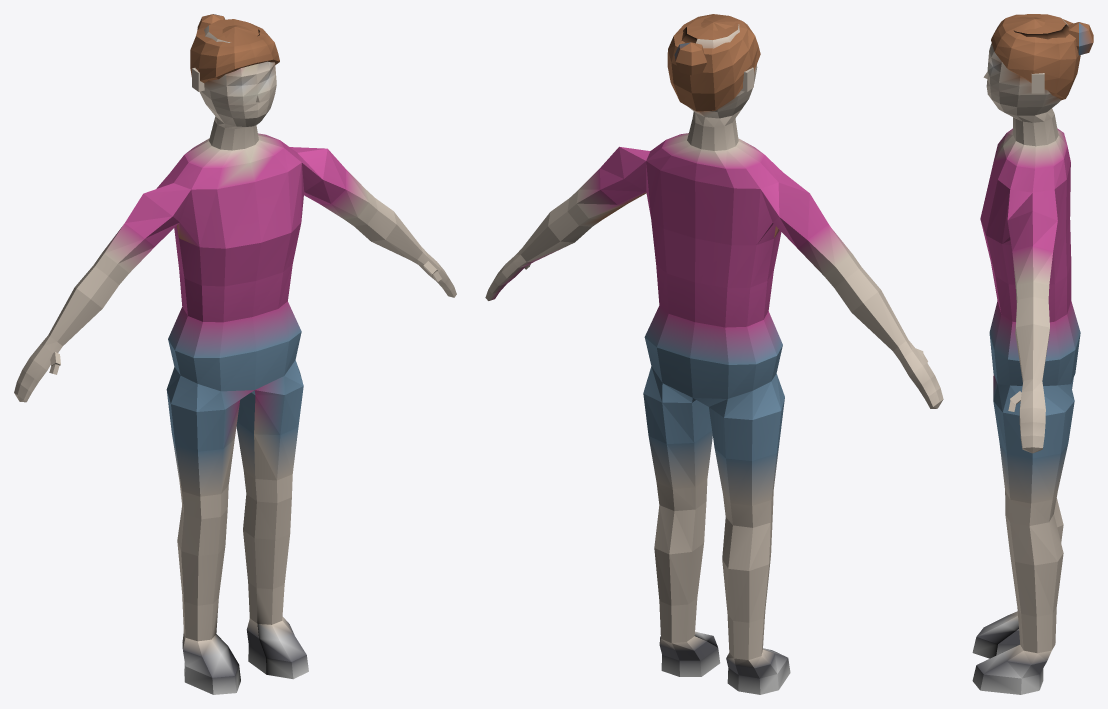
The model's file is char__pessoa__multidao_19.glb.
3 views of the same model, side by side, from view 1: azimuth 30°, elevation 25°; view 2: azimuth 150°, elevation 25°; view 3: azimuth 270°, elevation 25° (orthographic). The views are drawn at different scales.
Parts seen in each view (by area): view 1: char__pessoa__multidao_19; view 2: char__pessoa__multidao_19; view 3: char__pessoa__multidao_19.
Part boxes in pixels (x1,y1,x2,y2): char__pessoa__multidao_19: [14, 14, 456, 694]; char__pessoa__multidao_19: [485, 14, 943, 694]; char__pessoa__multidao_19: [972, 14, 1093, 694].
Size of the model in its own units: 1.16 by 1.63 by 0.2738.
